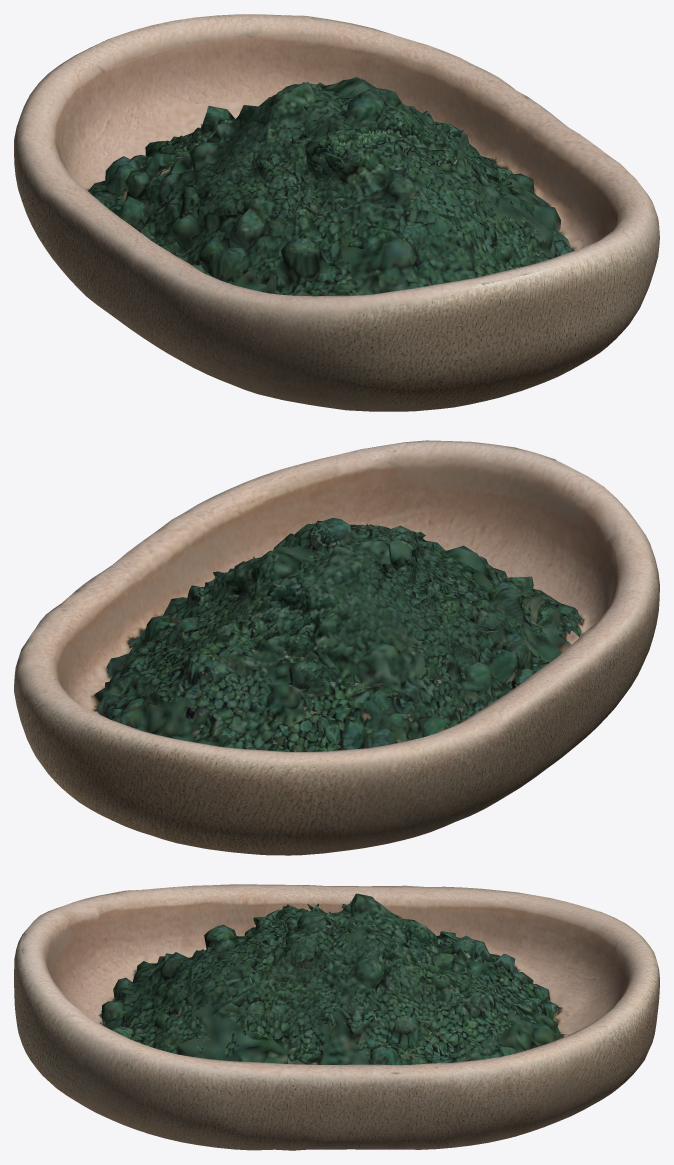
The model's file is Prop_PowderDish_Green.fbx.
3 views of the same model, one above another, from view 1: azimuth 30°, elevation 25°; view 2: azimuth 150°, elevation 25°; view 3: azimuth 270°, elevation 25° (orthographic). The views are drawn at different scales.
Parts seen in each view (by area): view 1: texture_mapping; view 2: texture_mapping; view 3: texture_mapping.
Part boxes in pixels (x1,y1,x2,y2): texture_mapping: (14,14,659,411); texture_mapping: (14,440,659,855); texture_mapping: (14,884,659,1150).
Bounding box in the file's own units: 0.709 × 0.9994 × 0.3085.
Materials: 1 (1 with a texture image).
